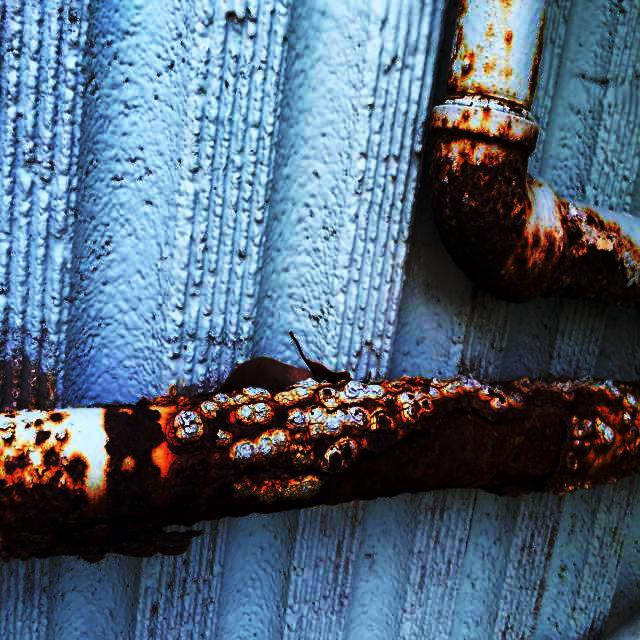Corrosion: (0, 377, 640, 561), (433, 4, 640, 308)
